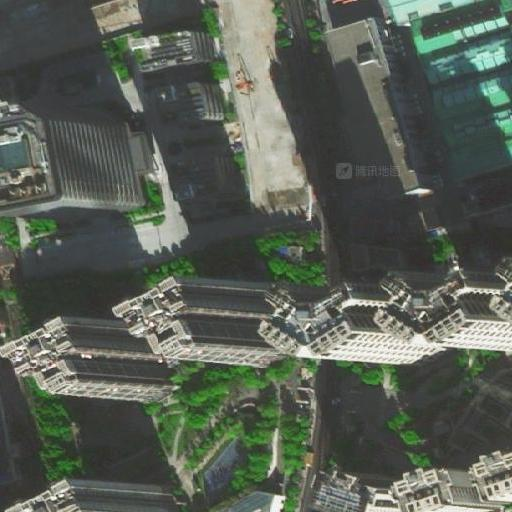building: (323, 16, 425, 185), (4, 104, 139, 216), (4, 323, 165, 397), (279, 296, 419, 358), (132, 291, 272, 353), (6, 480, 188, 510), (163, 142, 243, 210), (131, 30, 211, 75), (150, 76, 225, 121), (200, 439, 245, 491)
